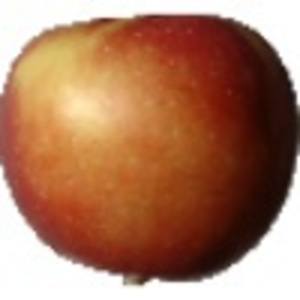maçã braeburn: (1, 12, 299, 281)
